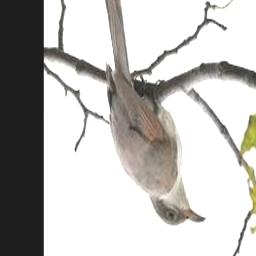Cuckoo: (103, 0, 206, 227)
